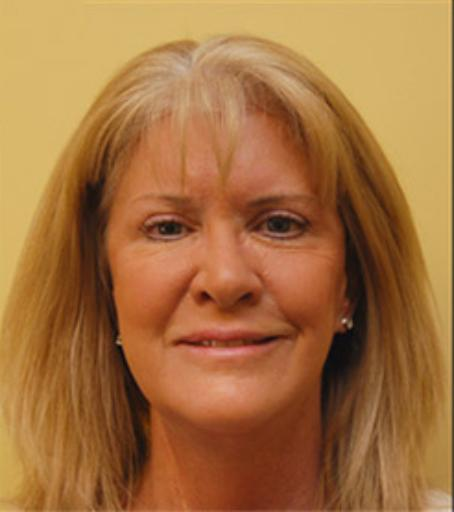left_eye: (243, 210, 314, 241)
left_lip_corner: (276, 319, 298, 354)
right_eye: (140, 215, 195, 242)
right_lip_corner: (169, 331, 191, 356)
